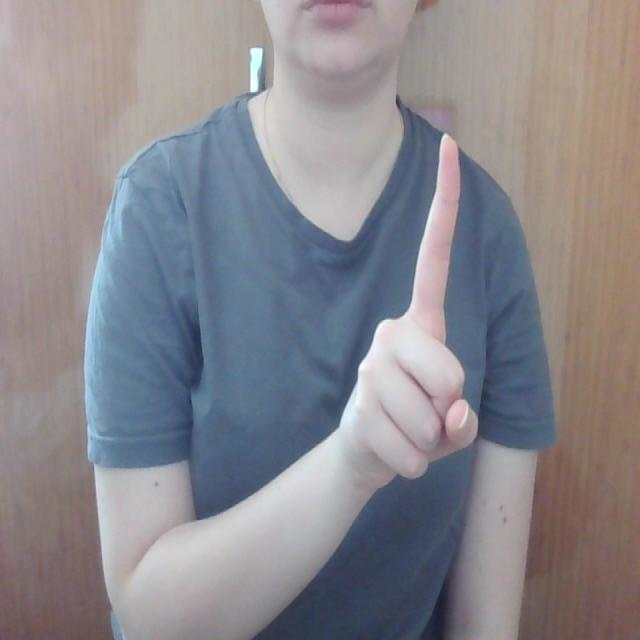Hayir: (330, 115, 487, 517)
